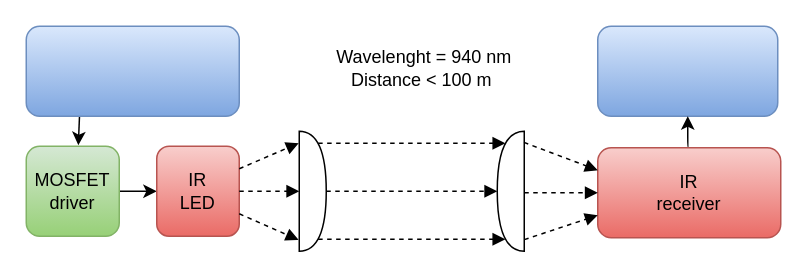
Some shapes in this 807 by 279 pixel diagram are drawn without their labels. The centre of each missing label's shape, as x and y in pixels:
"Arduino receiver" belongs at point 687,70.
"Arduino transmitter" belongs at point 132,70.
